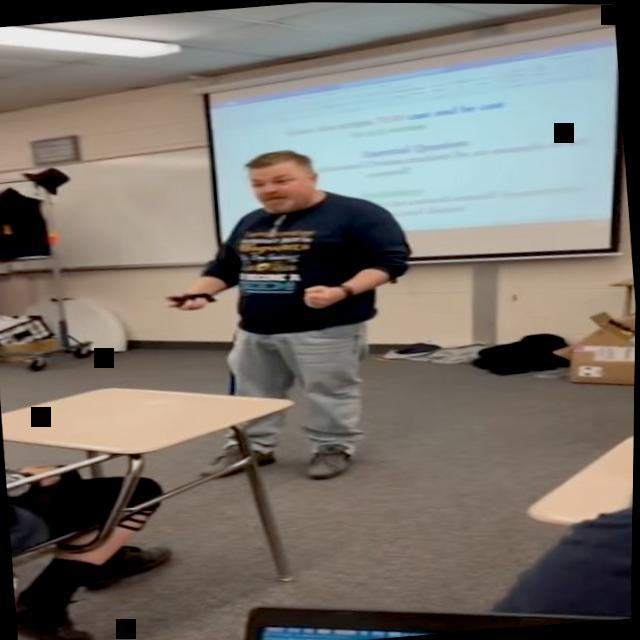NO-Mask: (244, 148, 321, 215)
